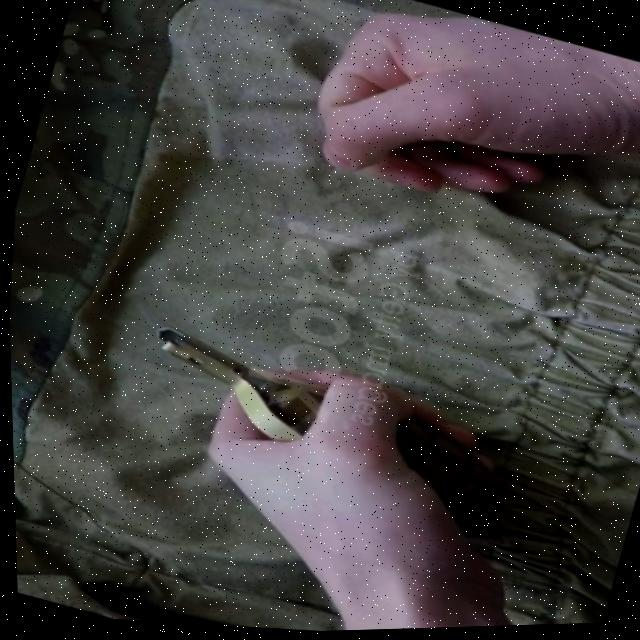grenade: (114, 308, 529, 546)
